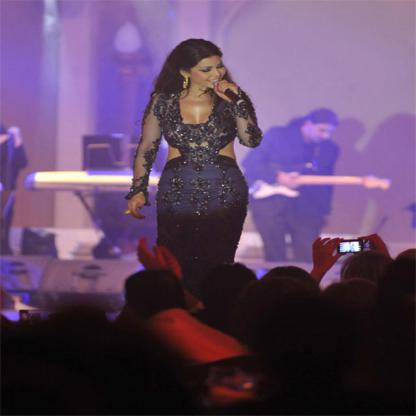face: (193, 57, 226, 88), (311, 121, 334, 146)
